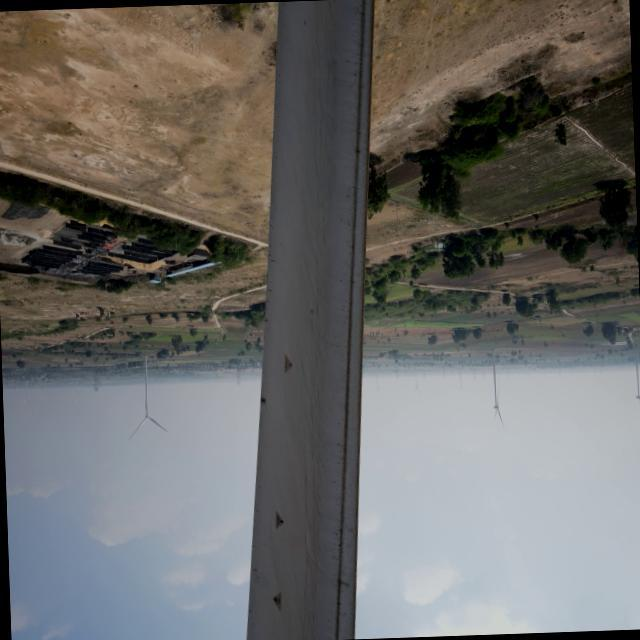Dirt: (288, 3, 378, 639)
Pin Hole: (270, 588, 287, 607), (281, 358, 296, 376), (274, 513, 288, 532), (258, 394, 274, 409)
